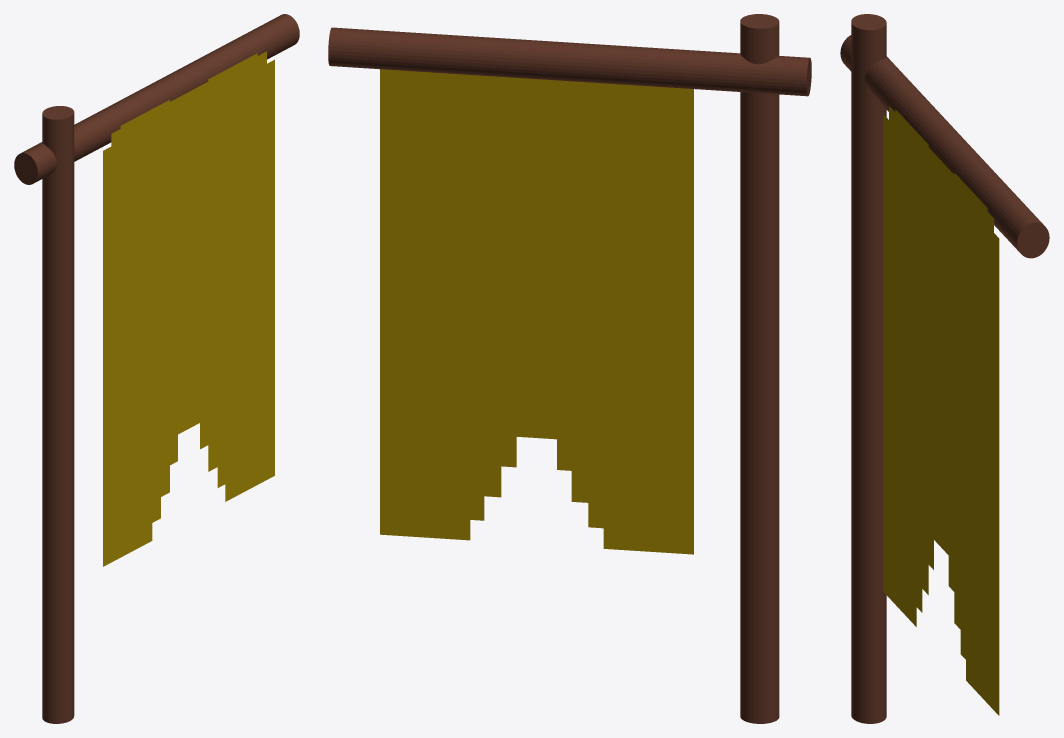
The model's file is Drapeau jaune.fbx.
The picture shows the model from 3 angles, left to right: view 1: azimuth 30°, elevation 25°; view 2: azimuth 150°, elevation 25°; view 3: azimuth 270°, elevation 25°; orthographic projection. The views are drawn at different scales.
Parts seen in each view (by area): view 1: Plan.008; view 2: Plan.008; view 3: Plan.008.
Part boxes in pixels (x1=…): Plan.008: x1=14, y1=14, x2=299, y2=723; Plan.008: x1=328, y1=14, x2=811, y2=723; Plan.008: x1=840, y1=14, x2=1049, y2=723.
Bounding box in the file's own units: 1.08 × 0.4907 × 1.8.
